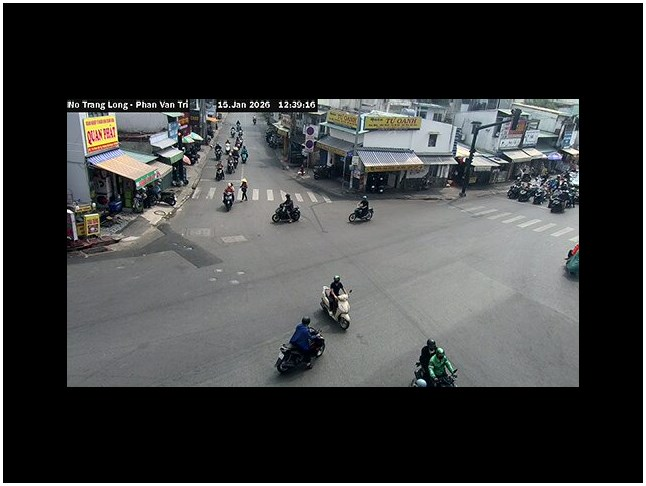motorbike: (274, 320, 325, 374), (320, 283, 352, 331), (271, 201, 301, 224), (349, 203, 374, 223)
